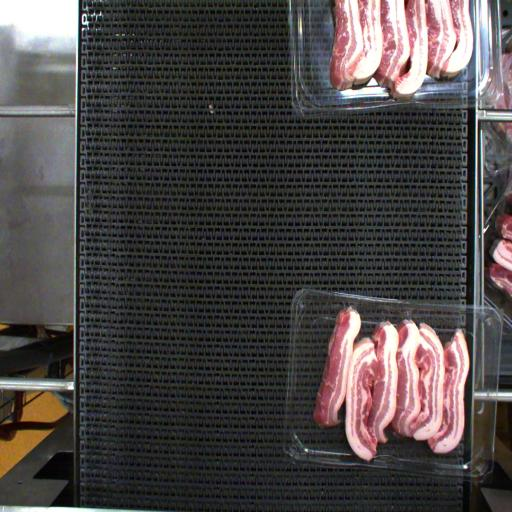packaging-error: (336, 290, 361, 314)
